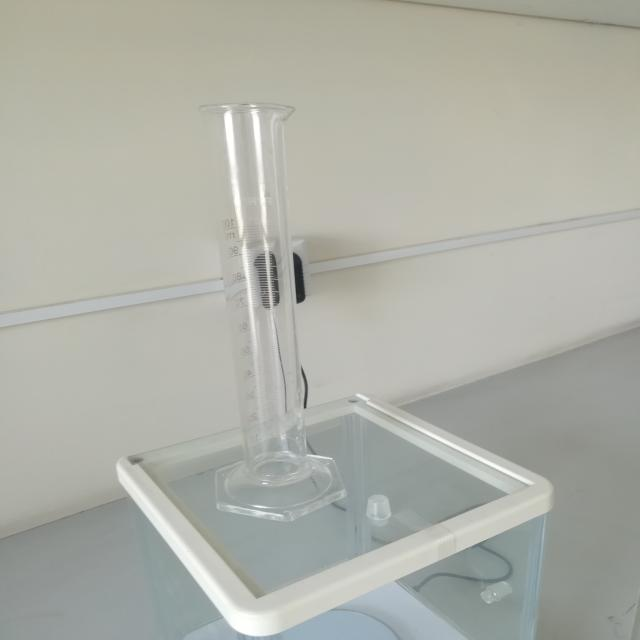Measuring_Cylinder: (170, 60, 385, 552)
